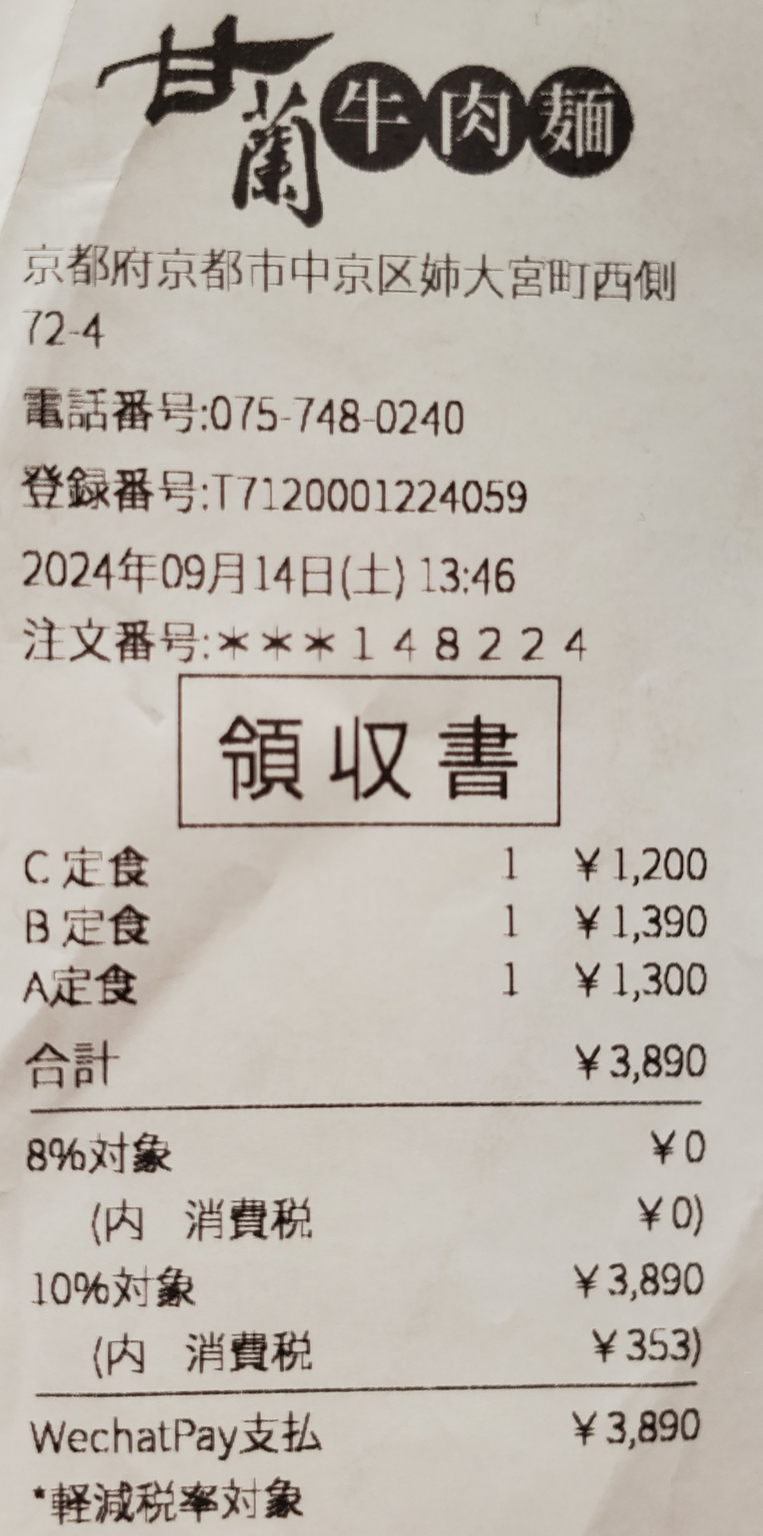Date: (14, 538, 341, 602)
Shopname: (89, 6, 703, 233)
Telnum: (202, 380, 489, 453)
Totalpay: (27, 1029, 727, 1090)
